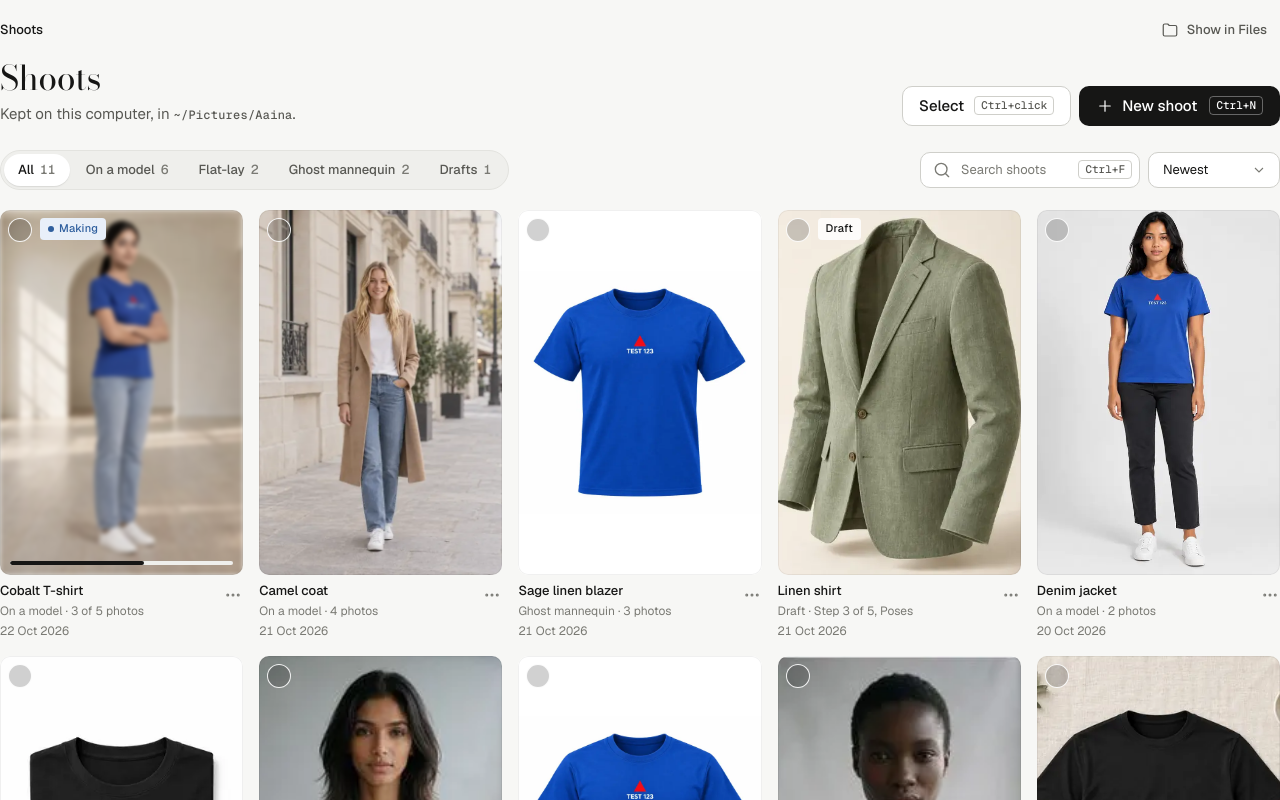
Scenario: Shoots › deleting asks first, names the shoot, and Cancel keeps it
The image size is (1280, 800).
Click the button named "Shoot options" next to "On a model · 4 photos" at (492, 595), box [476,579,508,611]
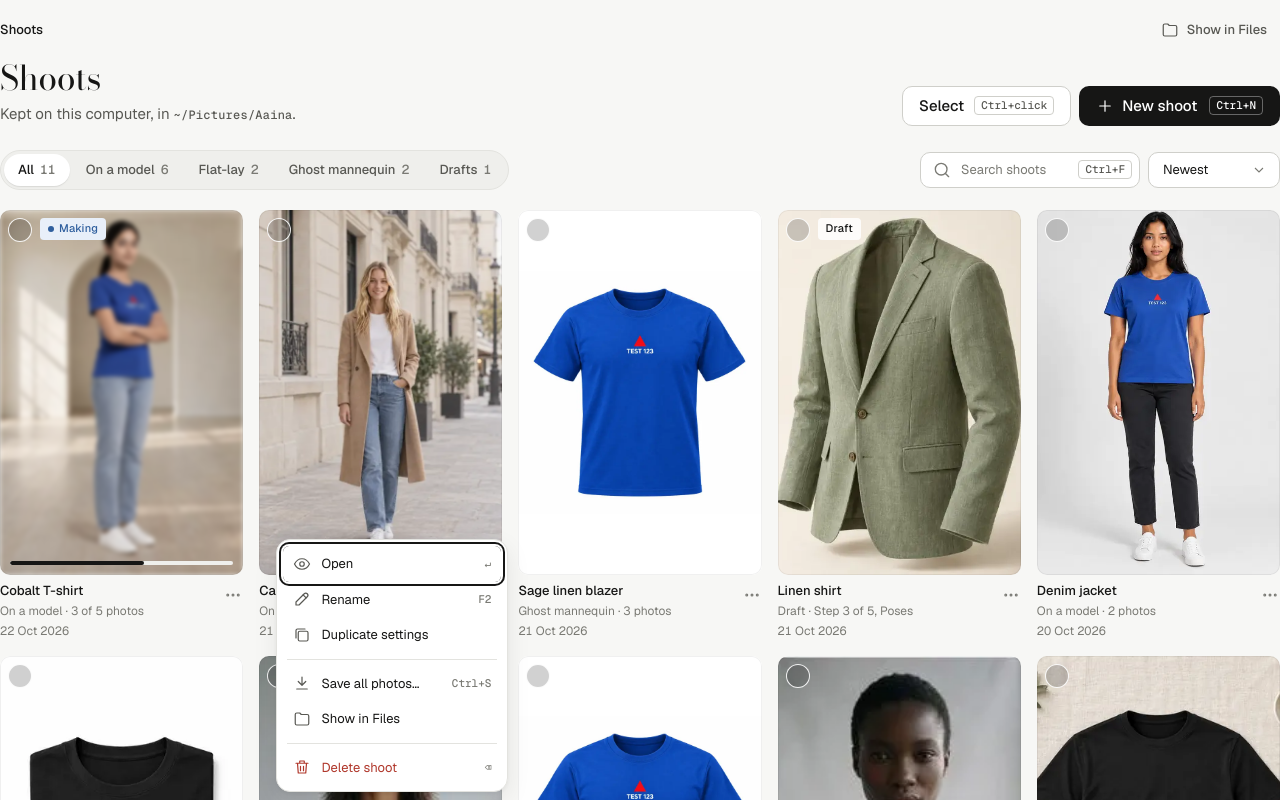
Click the menu item "Delete shoot ⌫" at (392, 767), box [283,750,501,785]
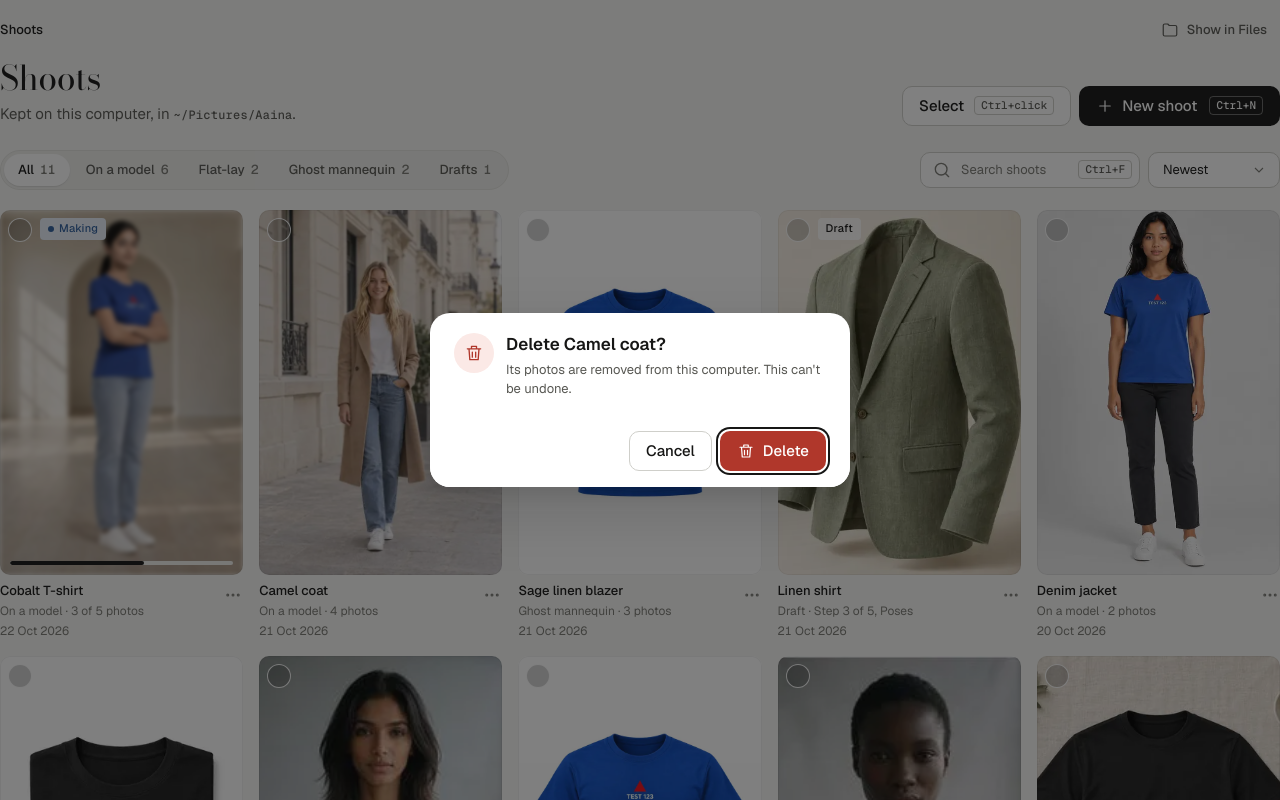
Expected: the text "can't be undone" is shown, [506,360,820,397]
Click the button "Cancel" at (670, 450), box [629,430,712,470]
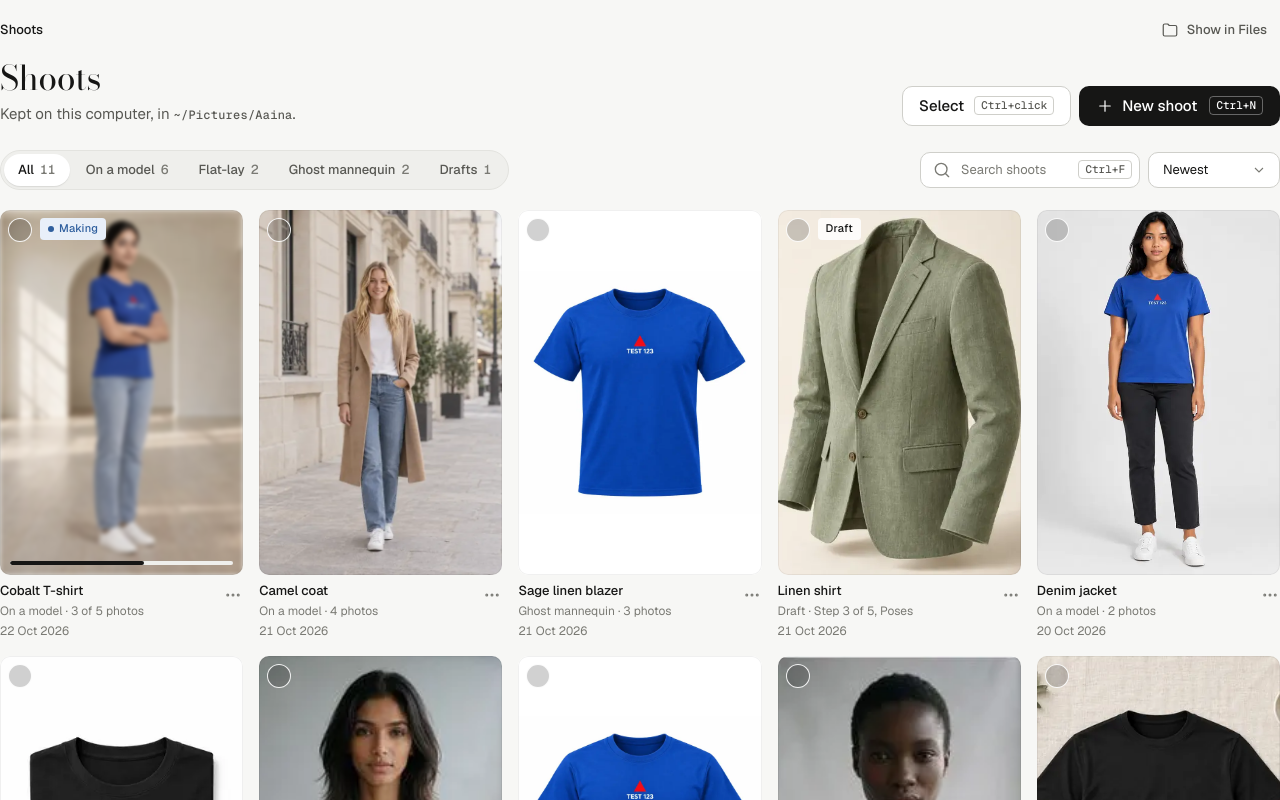
Expected: the text "Camel coat" is shown, [259,582,328,599]
Expected: the dialog is gone
